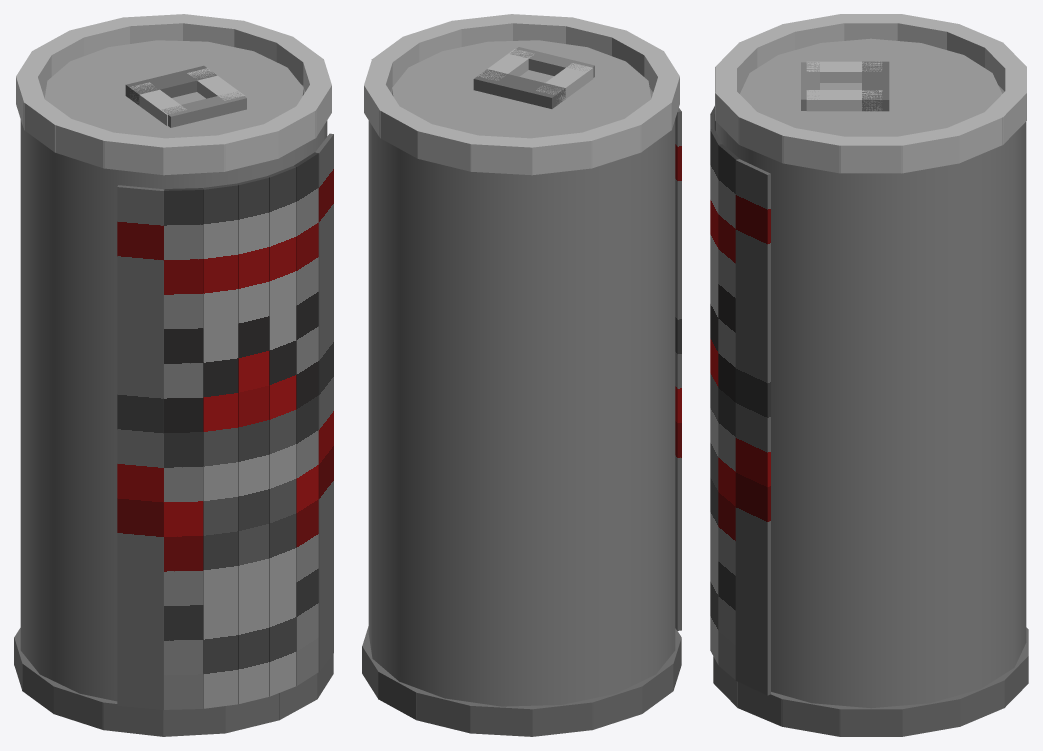
File: CMU3DBobdaCherryCloud.glb
3 views of the same model, side by side, from view 1: azimuth 30°, elevation 25°; view 2: azimuth 150°, elevation 25°; view 3: azimuth 270°, elevation 25° (orthographic).
Parts seen in each view (by area): view 1: closed aluminium can body, original printed label strip 1, original printed label strip 2, original printed label strip 3, original printed label strip 4, recessed aluminium lid, original printed label strip 5, original printed label strip 6, original printed label strip 7, raised upper rim 12, raised upper rim 11, raised upper rim 13 (+23 smaller); view 2: closed aluminium can body, recessed aluminium lid, original printed label strip 1, raised upper rim 06, raised upper rim 07, pull tab rear bridge, raised upper rim 05, raised upper rim 08, rolled bottom seam 06, rolled bottom seam 07, rolled bottom seam 05, raised upper rim 04 (+18 smaller); view 3: closed aluminium can body, original printed label strip 7, recessed aluminium lid, original printed label strip 6, original printed label strip 5, raised upper rim 01, raised upper rim 16, raised upper rim 02, rolled bottom seam 01, raised upper rim 15, rolled bottom seam 16, raised upper rim 03 (+20 smaller).
Part boxes in pixels (x1,y1,x2,y2): closed aluminium can body: [20, 84, 327, 701]; original printed label strip 1: [117, 185, 164, 709]; original printed label strip 2: [164, 188, 203, 709]; original printed label strip 3: [203, 183, 238, 708]; original printed label strip 4: [237, 176, 269, 703]; recessed aluminium lid: [44, 40, 303, 138]; original printed label strip 5: [267, 166, 296, 696]; original printed label strip 6: [294, 152, 318, 685]; original printed label strip 7: [315, 133, 333, 671]; raised upper rim 12: [161, 135, 225, 175]; raised upper rim 11: [103, 132, 168, 174]; raised upper rim 13: [214, 123, 278, 171]; closed aluminium can body: [368, 84, 675, 706]; recessed aluminium lid: [392, 40, 651, 138]; original printed label strip 1: [675, 108, 681, 630]; raised upper rim 06: [470, 135, 535, 175]; raised upper rim 07: [532, 132, 592, 175]; pull tab rear bridge: [473, 69, 565, 108]; raised upper rim 05: [417, 124, 481, 171]; raised upper rim 08: [584, 117, 641, 168]; rolled bottom seam 06: [470, 703, 533, 736]; rolled bottom seam 07: [530, 700, 593, 736]; rolled bottom seam 05: [416, 689, 474, 733]; raised upper rim 04: [379, 106, 434, 158]; closed aluminium can body: [716, 85, 1026, 708]; original printed label strip 7: [735, 159, 770, 695]; recessed aluminium lid: [740, 38, 1002, 136]; original printed label strip 6: [718, 144, 739, 679]; original printed label strip 5: [710, 129, 722, 664]; raised upper rim 01: [839, 136, 902, 173]; raised upper rim 16: [782, 127, 846, 173]; raised upper rim 02: [894, 127, 959, 173]; rolled bottom seam 01: [839, 705, 902, 736]; raised upper rim 15: [738, 111, 797, 163]; rolled bottom seam 16: [781, 696, 840, 736]; raised upper rim 03: [944, 110, 1003, 163].
Size of what is drawn, in the model's own units: 0.2783 by 0.575 by 0.2812.
11 materials, 7 textured.
